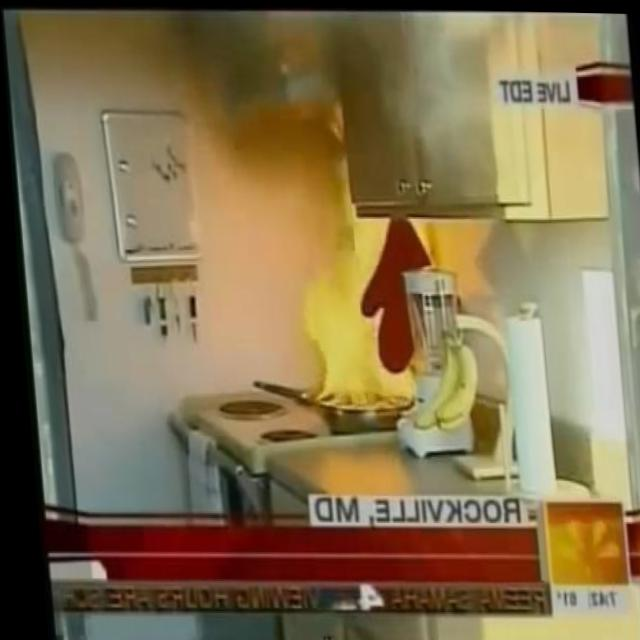fire: (288, 88, 434, 415)
